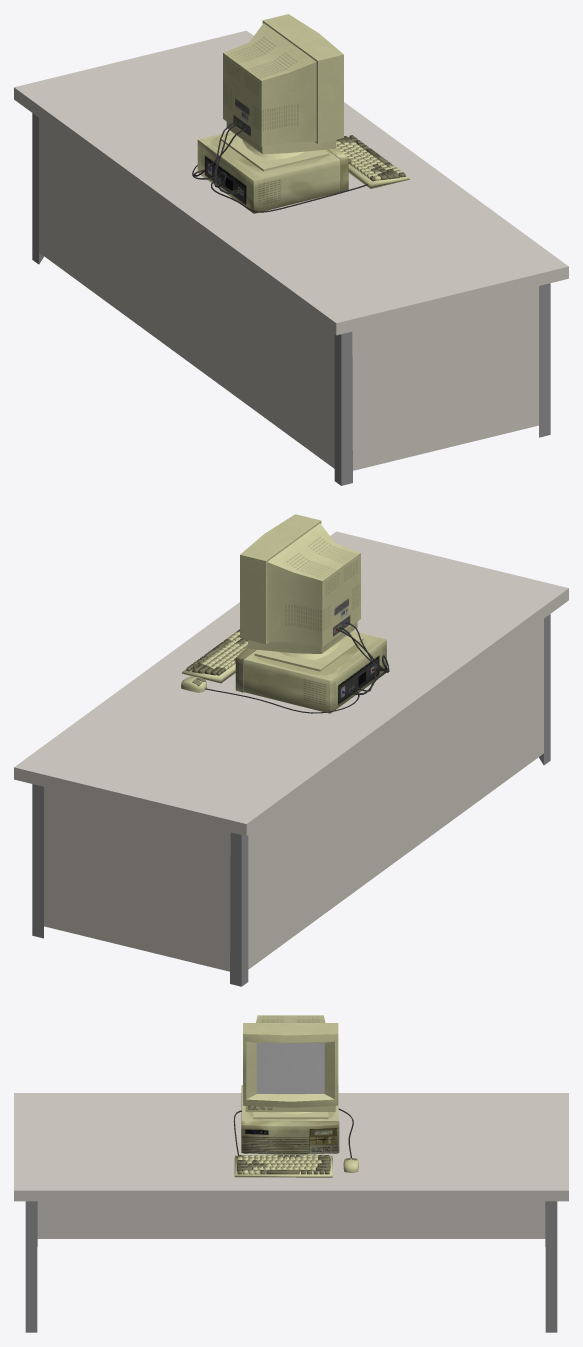
File: Room.glb
The picture shows the model from 3 angles, top to bottom: view 1: azimuth 30°, elevation 25°; view 2: azimuth 150°, elevation 25°; view 3: azimuth 270°, elevation 25°; orthographic projection. The views are drawn at different scales.
Parts seen in each view (by area): view 1: Cube.001, Monitor_002.007, PC_004.007, KeyBoard_002.005; view 2: Cube.001, Monitor_002.007, PC_004.007, KeyBoard_002.005; view 3: Cube.001, Monitor_002.007, Monitor_Screen, PC_004.005, KeyBoard_002.005, PC_004.007.
Part boxes in pixels (x1,y1,x2,y2): Cube.001: (14,30,568,485); Monitor_002.007: (220,14,343,171); PC_004.007: (197,131,340,213); KeyBoard_002.005: (336,135,409,188); Cube.001: (14,531,568,986); Monitor_002.007: (240,514,363,671); PC_004.007: (243,631,386,713); KeyBoard_002.005: (182,629,247,683); Cube.001: (14,1093,568,1332); Monitor_002.007: (243,1015,338,1118); Monitor_Screen: (256,1043,324,1093); PC_004.005: (241,1121,339,1154); KeyBoard_002.005: (234,1155,332,1177); PC_004.007: (241,1085,338,1153).
Bounding box in the file's own units: 1 × 1.26 × 2.4.
Materials: 10 (6 with a texture image).
